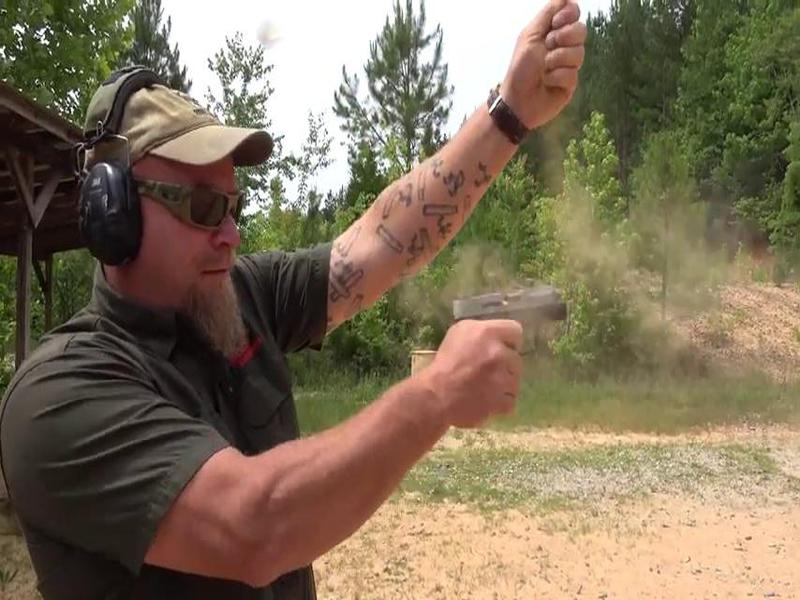Pistola: (408, 277, 569, 398)
